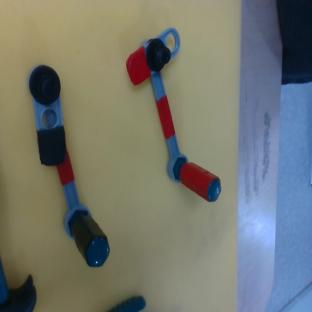non_pass: (14, 61, 114, 274)
pass: (119, 27, 224, 213)
